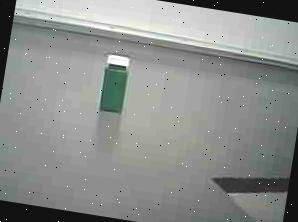Bottle C: (88, 46, 140, 124)
